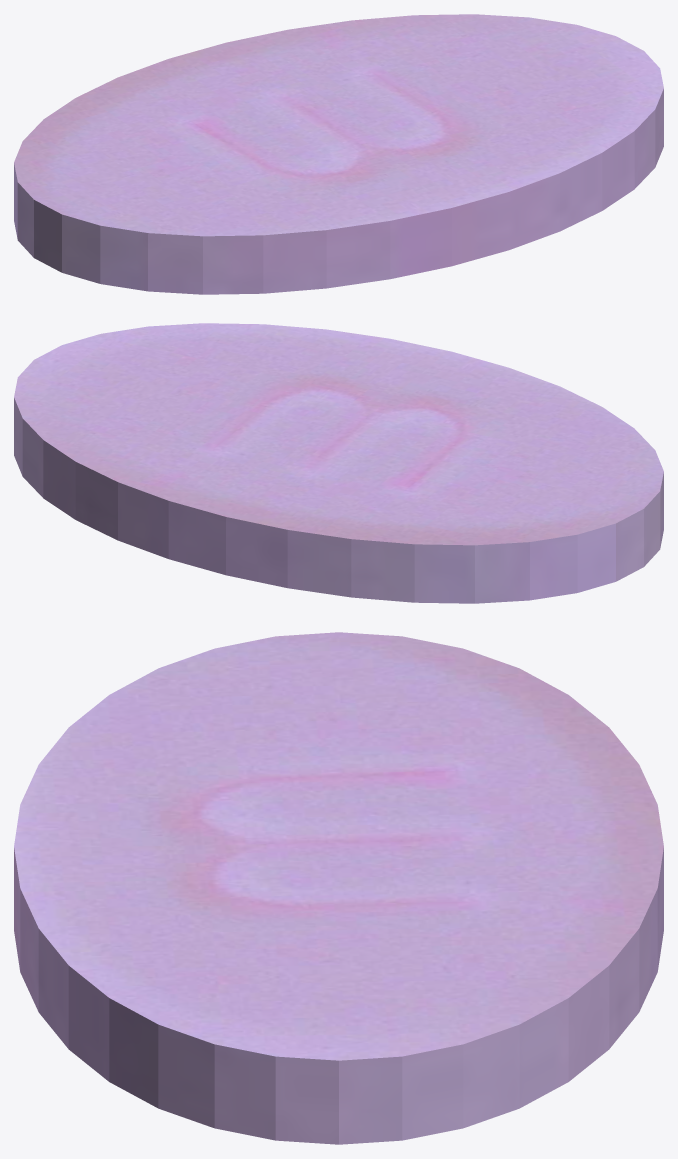
3 renders of one model, top to bottom at view 1: azimuth 30°, elevation 25°; view 2: azimuth 150°, elevation 25°; view 3: azimuth 270°, elevation 25°, orthographic. The views are drawn at different scales.
Visible parts, largest first — view 1: 圓柱體; view 2: 圓柱體; view 3: 圓柱體.
Part boxes in pixels (x1,y1,x2,y2): 圓柱體: (14,14,663,294); 圓柱體: (14,323,663,603); 圓柱體: (14,632,663,1144).
Size of the model in its own units: 1.09 by 0.0999 by 0.7001.
